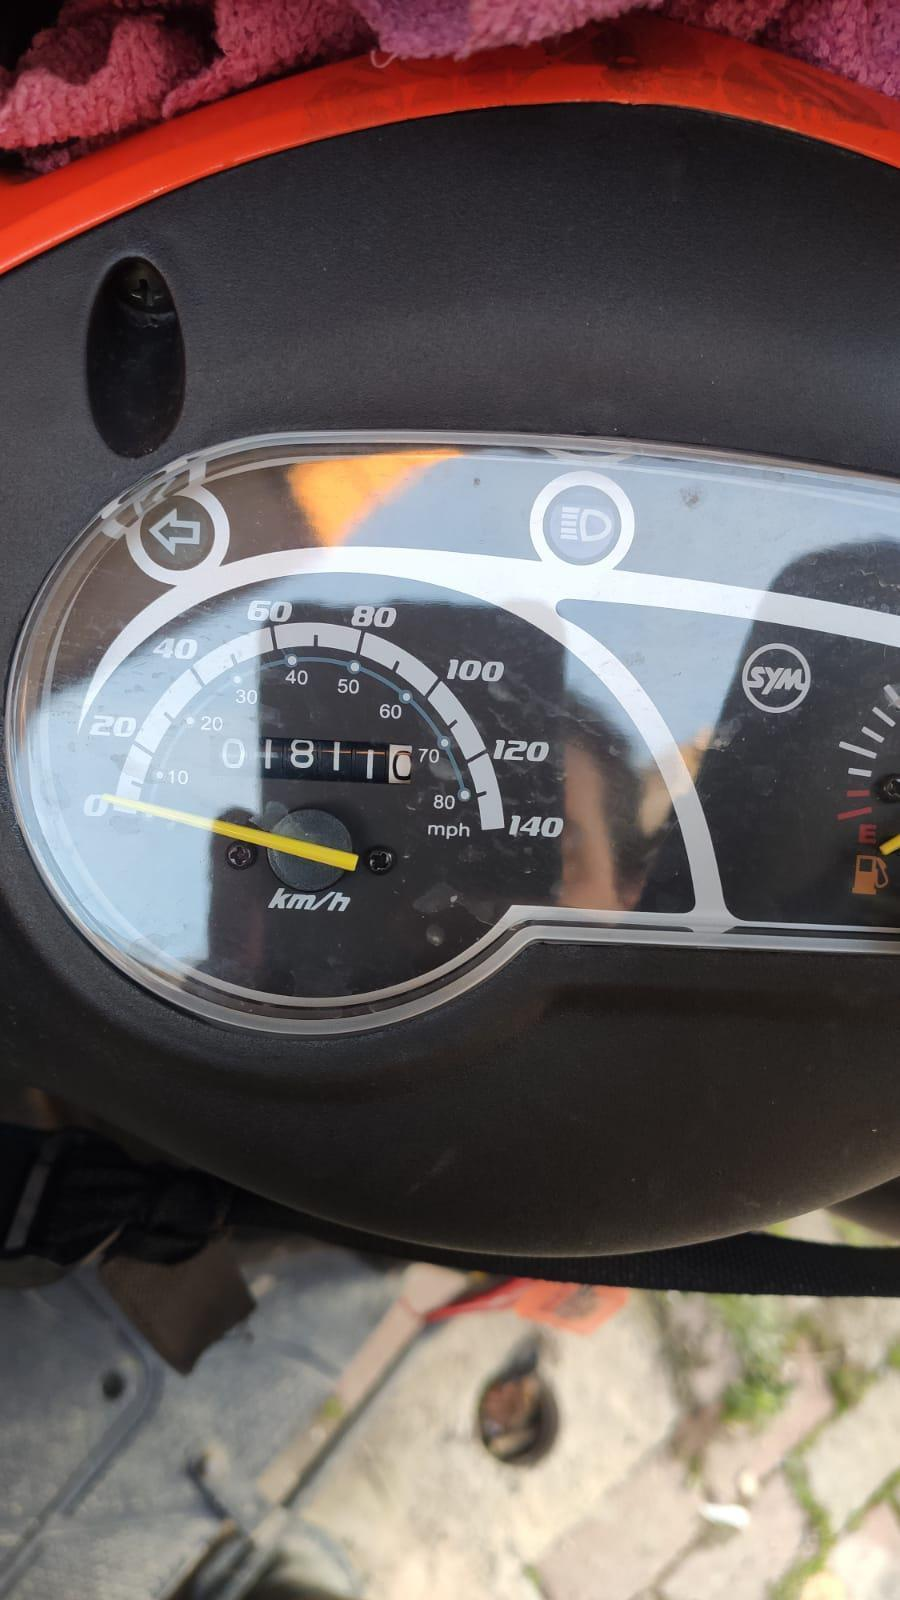0: (219, 736, 245, 771), (390, 749, 412, 780)
1: (327, 738, 344, 774), (260, 738, 277, 771), (363, 746, 376, 781)
8: (287, 738, 316, 769)
odometer: (197, 727, 416, 788)
